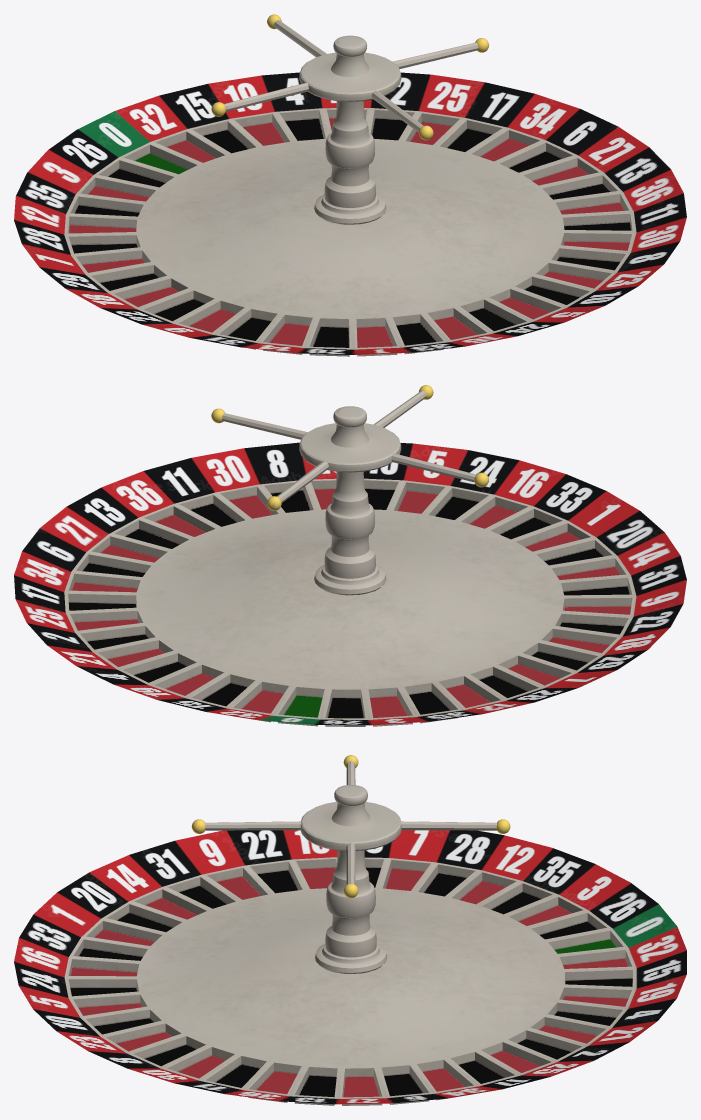
The model's file is RouletteWheel.fbx.
The picture shows the model from 3 angles, top to bottom: view 1: azimuth 30°, elevation 25°; view 2: azimuth 150°, elevation 25°; view 3: azimuth 270°, elevation 25°; orthographic projection.
Visible parts, largest first — view 1: SM_Roulette; view 2: SM_Roulette; view 3: SM_Roulette.
Boxes of the visible parts, x1=… form: SM_Roulette: x1=14, y1=14, x2=686, y2=356; SM_Roulette: x1=14, y1=385, x2=686, y2=726; SM_Roulette: x1=14, y1=755, x2=686, y2=1105.
Bounding box in the file's own units: 889 × 286 × 889.
